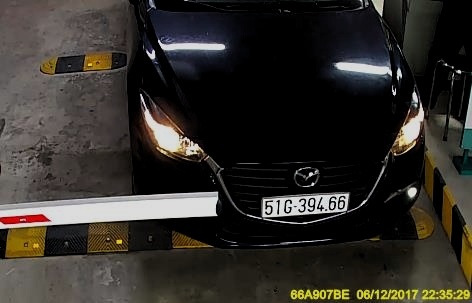plate: (259, 186, 349, 219)
